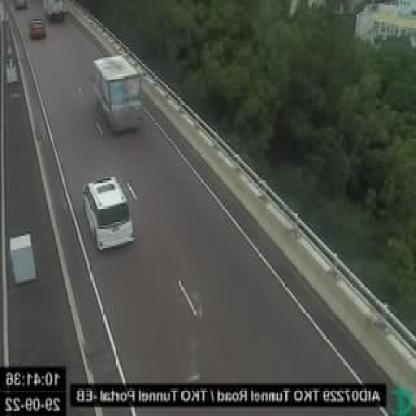Car: (80, 174, 136, 252), (29, 16, 46, 42)
Truck: (87, 54, 151, 130)
